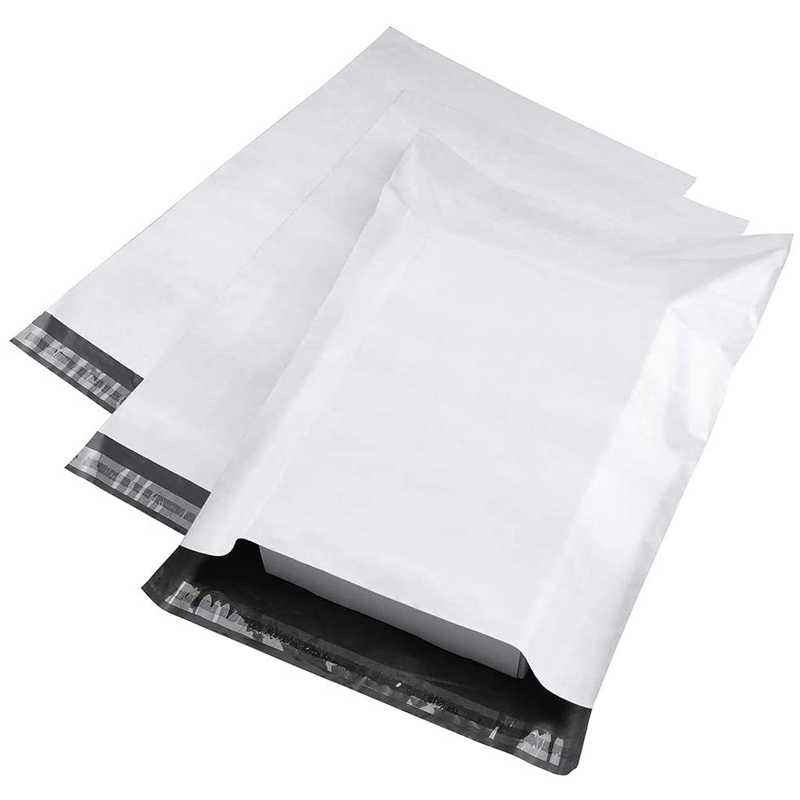Parcel: (50, 30, 788, 774)
